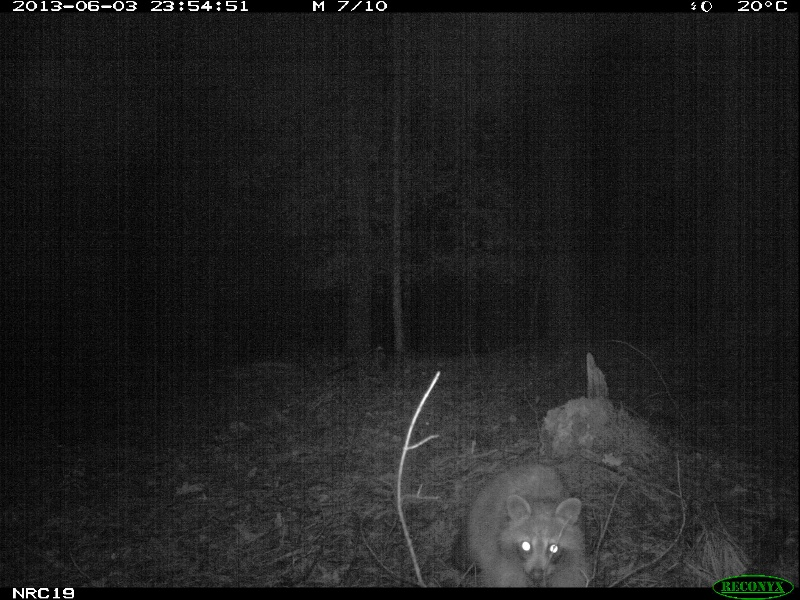raccoon: (464, 465, 593, 587)
